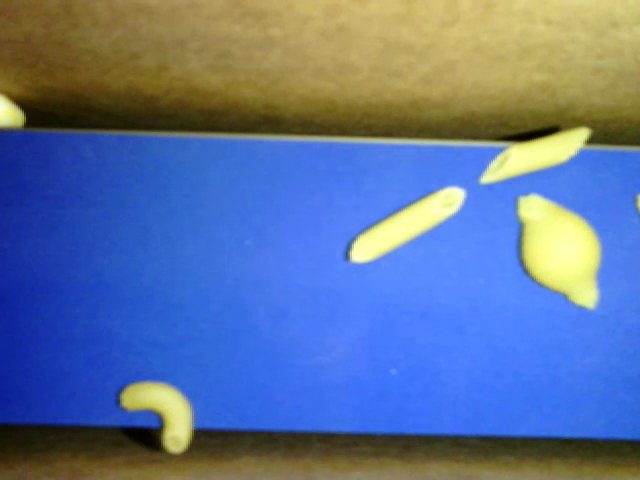elbow: (119, 381, 192, 453)
penne: (347, 183, 468, 265), (479, 124, 593, 184)
shell: (517, 193, 600, 309)
